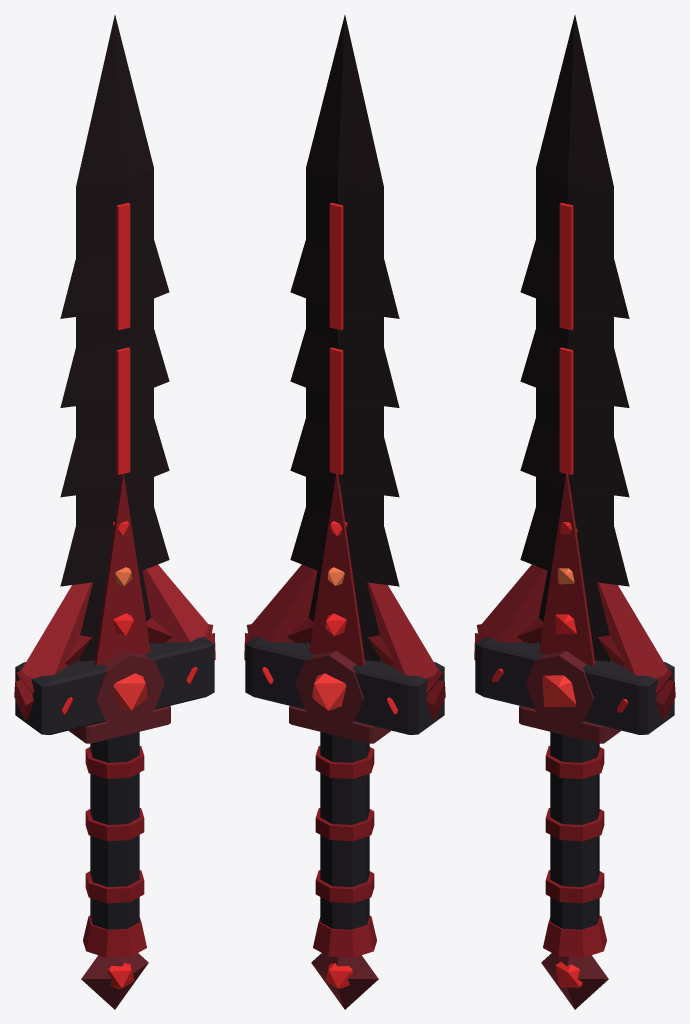
File: Sword_Phase4.fbx
The picture shows the model from 3 angles, left to right: view 1: azimuth 30°, elevation 25°; view 2: azimuth 150°, elevation 25°; view 3: azimuth 330°, elevation 25°; orthographic projection.
Parts seen in each view (by area): view 1: Sword_Phase4_Blade, Sword_Phase4_Guard, Sword_Phase4_Grip, Sword_Phase4_Trim, Sword_Phase4_Horn, Sword_Phase4_Band, Sword_Phase4_Glow, Sword_Phase4_Inlay, Sword_Phase4_Wing, Sword_Phase4_Eye; view 2: Sword_Phase4_Blade, Sword_Phase4_Guard, Sword_Phase4_Grip, Sword_Phase4_Trim, Sword_Phase4_Horn, Sword_Phase4_Band, Sword_Phase4_Glow, Sword_Phase4_Inlay, Sword_Phase4_Wing, Sword_Phase4_Eye; view 3: Sword_Phase4_Blade, Sword_Phase4_Guard, Sword_Phase4_Grip, Sword_Phase4_Trim, Sword_Phase4_Horn, Sword_Phase4_Band, Sword_Phase4_Glow, Sword_Phase4_Inlay, Sword_Phase4_Wing, Sword_Phase4_Eye.
Boxes of the visible parts, x1=… form: Sword_Phase4_Blade: x1=60, y1=15, x2=169, y2=661; Sword_Phase4_Guard: x1=15, y1=637, x2=214, y2=734; Sword_Phase4_Grip: x1=90, y1=732, x2=139, y2=929; Sword_Phase4_Trim: x1=69, y1=650, x2=170, y2=1009; Sword_Phase4_Horn: x1=21, y1=564, x2=208, y2=678; Sword_Phase4_Band: x1=83, y1=746, x2=146, y2=957; Sword_Phase4_Glow: x1=62, y1=202, x2=197, y2=988; Sword_Phase4_Inlay: x1=94, y1=474, x2=150, y2=665; Sword_Phase4_Wing: x1=14, y1=618, x2=215, y2=720; Sword_Phase4_Eye: x1=113, y1=673, x2=147, y2=710; Sword_Phase4_Blade: x1=290, y1=15, x2=399, y2=661; Sword_Phase4_Guard: x1=245, y1=637, x2=444, y2=734; Sword_Phase4_Grip: x1=320, y1=732, x2=369, y2=929; Sword_Phase4_Trim: x1=289, y1=650, x2=390, y2=1009; Sword_Phase4_Horn: x1=251, y1=564, x2=438, y2=678; Sword_Phase4_Band: x1=313, y1=746, x2=376, y2=957; Sword_Phase4_Glow: x1=262, y1=202, x2=397, y2=988; Sword_Phase4_Inlay: x1=309, y1=474, x2=365, y2=665; Sword_Phase4_Wing: x1=244, y1=618, x2=445, y2=720; Sword_Phase4_Eye: x1=312, y1=673, x2=346, y2=710; Sword_Phase4_Blade: x1=520, y1=15, x2=629, y2=661; Sword_Phase4_Guard: x1=475, y1=637, x2=674, y2=734; Sword_Phase4_Grip: x1=550, y1=732, x2=599, y2=929; Sword_Phase4_Trim: x1=519, y1=650, x2=620, y2=1009; Sword_Phase4_Horn: x1=481, y1=564, x2=668, y2=678; Sword_Phase4_Band: x1=543, y1=746, x2=606, y2=957; Sword_Phase4_Glow: x1=492, y1=202, x2=628, y2=987; Sword_Phase4_Inlay: x1=539, y1=474, x2=595, y2=665; Sword_Phase4_Wing: x1=474, y1=618, x2=675, y2=720; Sword_Phase4_Eye: x1=542, y1=675, x2=576, y2=707.
Size of the model in its own units: 1.18 by 5.61 by 0.4849.
